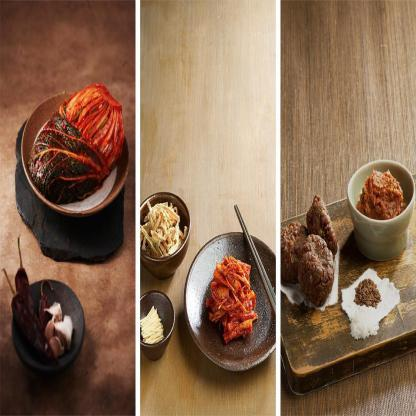kimchi: (36, 73, 126, 210), (204, 253, 258, 360), (358, 166, 400, 228)
